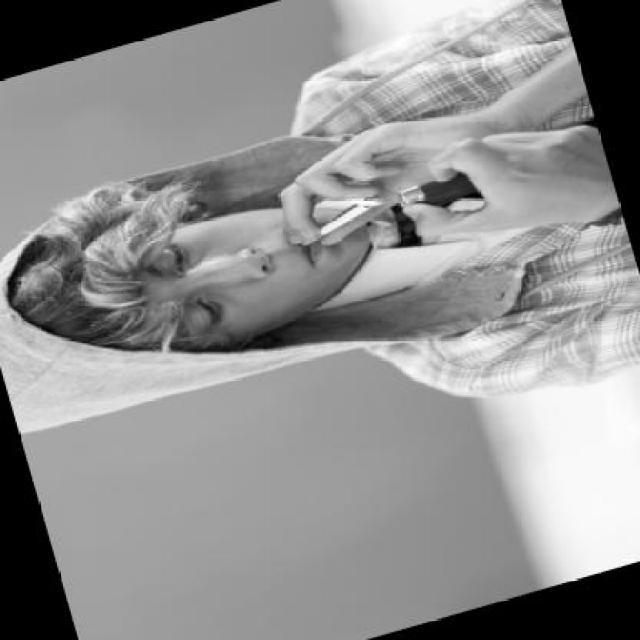smoke: (292, 196, 383, 250)
